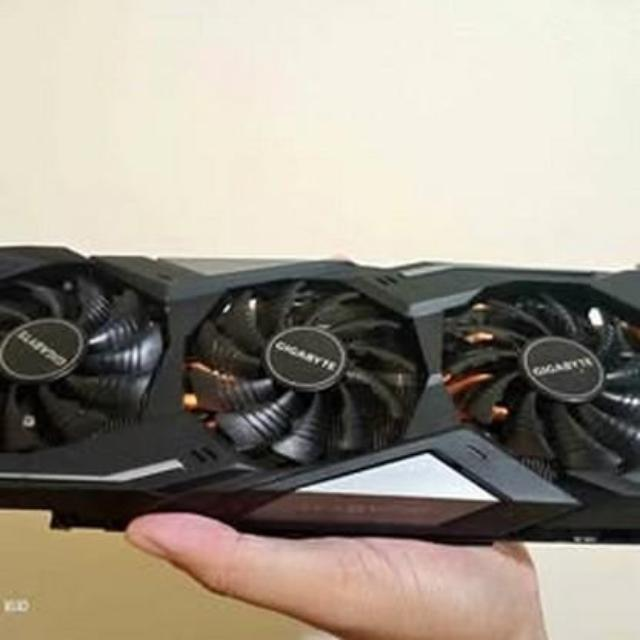GPU: (0, 243, 640, 551)
